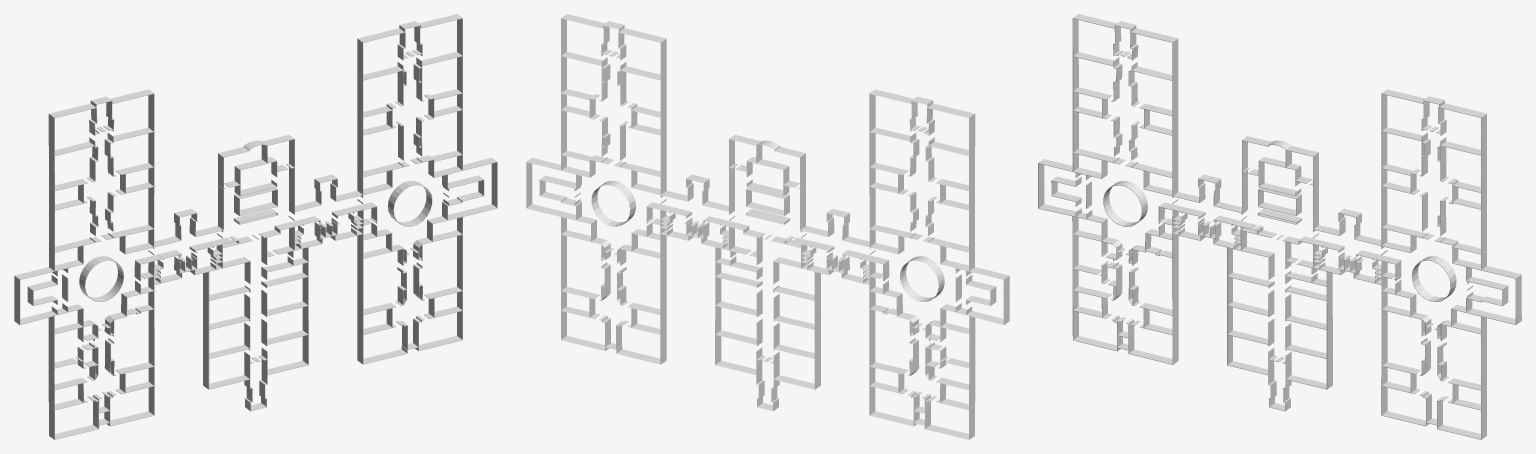
The model's file is wall_1.obj.
3 views of the same model, side by side, from view 1: azimuth 30°, elevation 25°; view 2: azimuth 150°, elevation 25°; view 3: azimuth 330°, elevation 25° (orthographic).
Visible parts, largest first — view 1: walls; view 2: walls; view 3: walls.
Boxes of the visible parts, x1,y1,x2,y2 form: walls: (14,14,497,439); walls: (526,14,1009,439); walls: (1038,14,1521,439).
Bounding box in the file's own units: 122 × 84.05 × 2.5.
